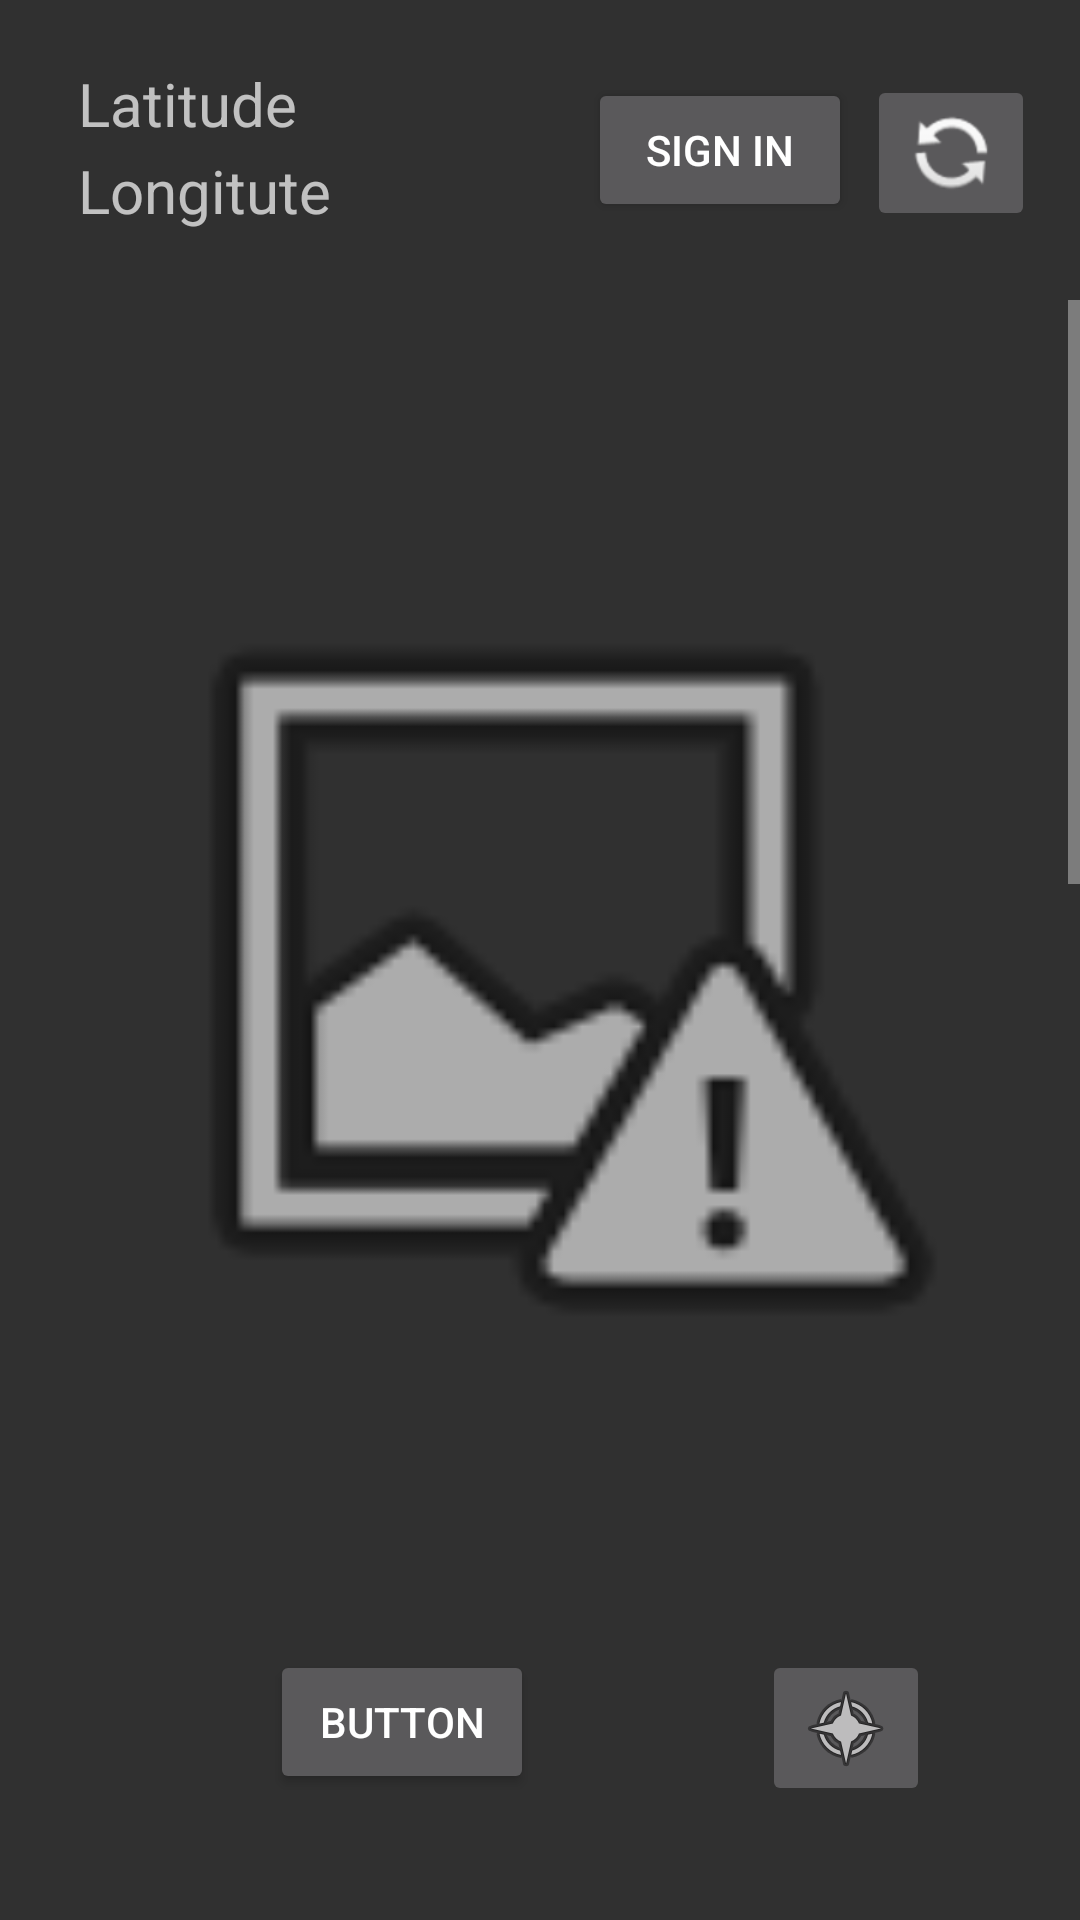

Icons on this 1080*1920 Android screen, each with the point to tap as (x=x, y=y):
compass: (x=846, y=1728)
